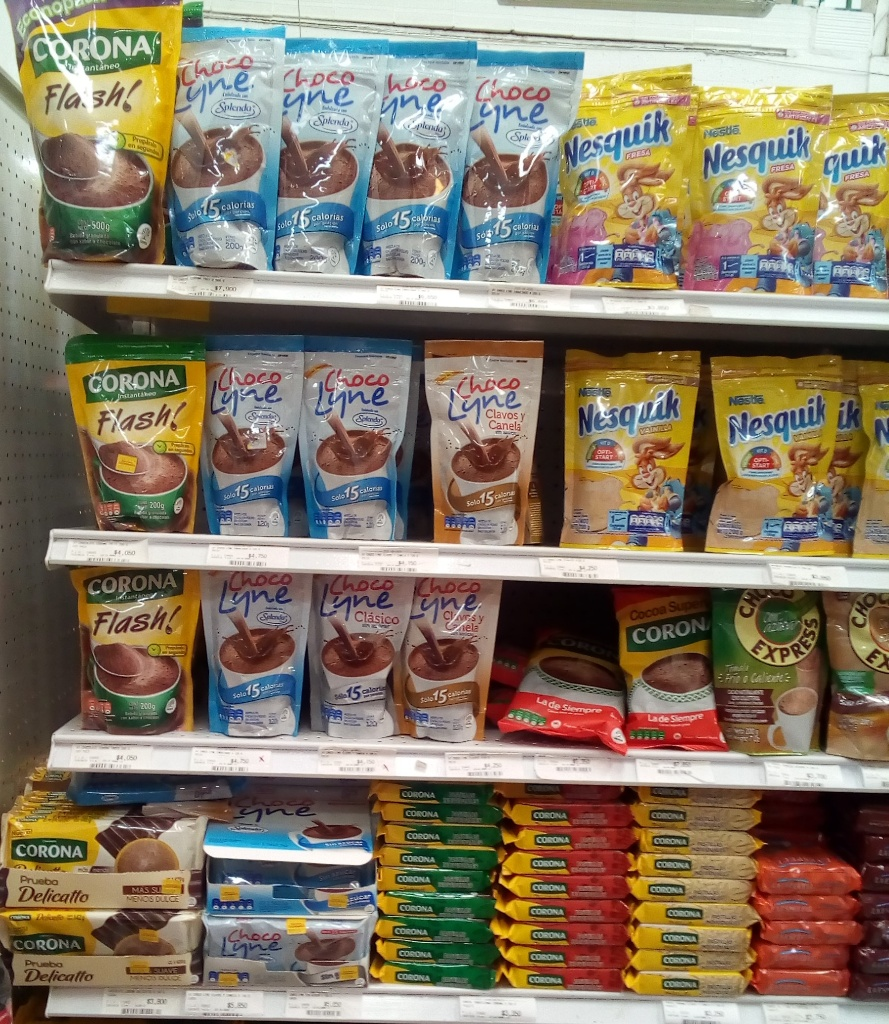COL0170305DYP20000: (826, 92, 887, 298)
COL0170306DYP20000: (707, 350, 841, 556)
